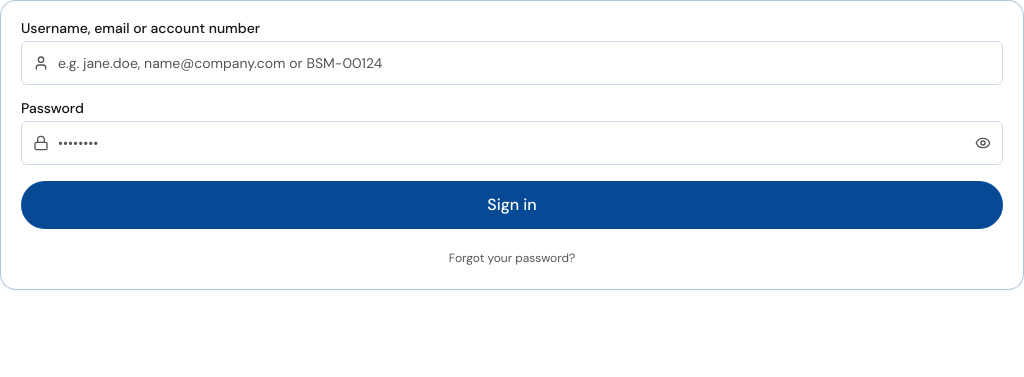
it: LoginForm (one sign-in for every account) › shows the server's refusal and does not sign in
Type "jane.doe" into the field labelled "Username, email or account number" at point(512, 63), box [21,41,1003,85]
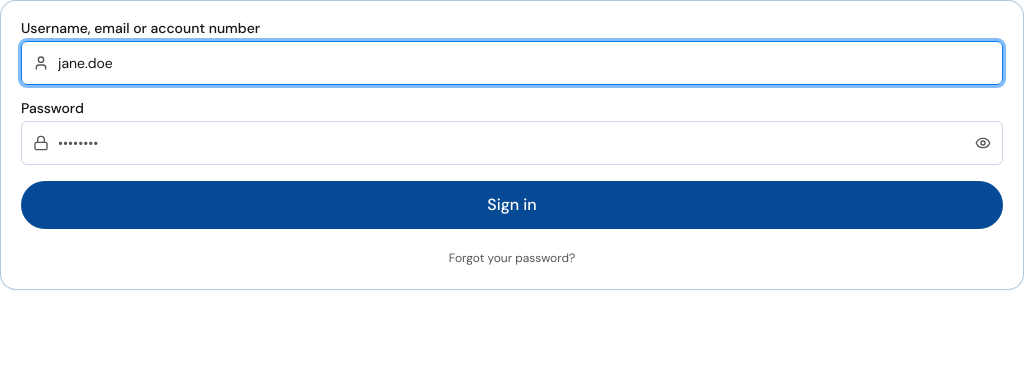
Type "wrong-password" into the password field labelled "Password" at point(512, 143), box [21,121,1003,165]
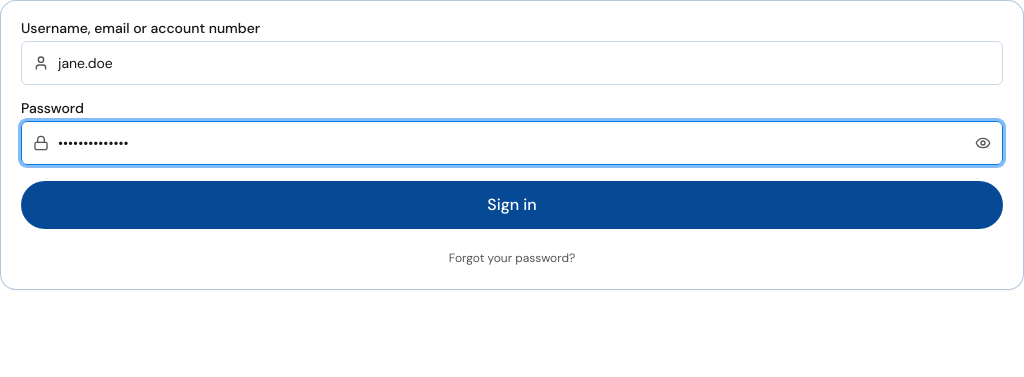
Click the button "Sign in" at point(512, 205), box [21,181,1003,229]
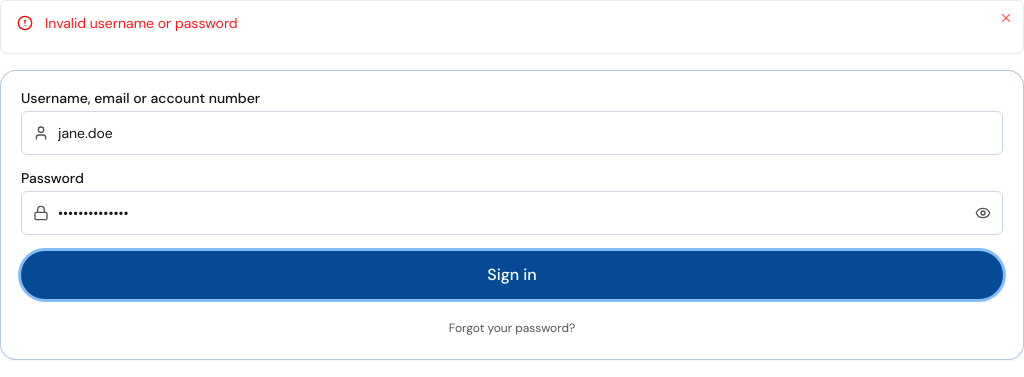
Check: the text "Invalid username or password" is shown, box [45,14,238,32]
